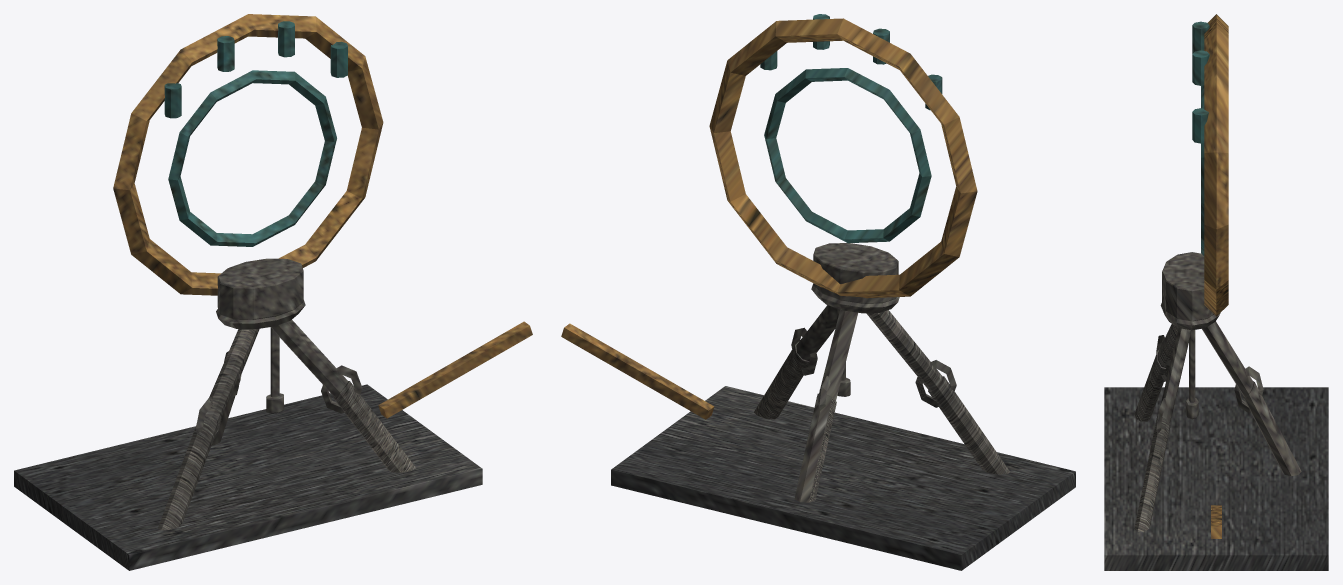
The model's file is east-scaffold-handhold-frame.glb.
3 views of the same model, side by side, from view 1: azimuth 30°, elevation 25°; view 2: azimuth 150°, elevation 25°; view 3: azimuth 270°, elevation 25° (orthographic). The views are drawn at different scales.
Parts seen in each view (by area): view 1: east-scaffold-handhold-frame; view 2: east-scaffold-handhold-frame; view 3: east-scaffold-handhold-frame.
Boxes of the visible parts, <box> form: east-scaffold-handhold-frame: <box>14,14,532,570</box>; east-scaffold-handhold-frame: <box>561,14,1075,570</box>; east-scaffold-handhold-frame: <box>1104,14,1328,570</box>.
Size of the model in its own units: 5.97 by 5.91 by 2.6.
1 material, 1 textured.
